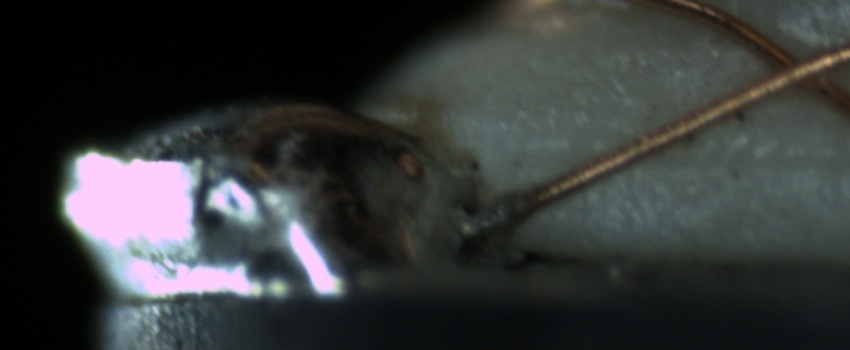CL: (745, 34, 842, 105)
DL: (537, 116, 846, 192)
TS: (461, 200, 514, 238)
